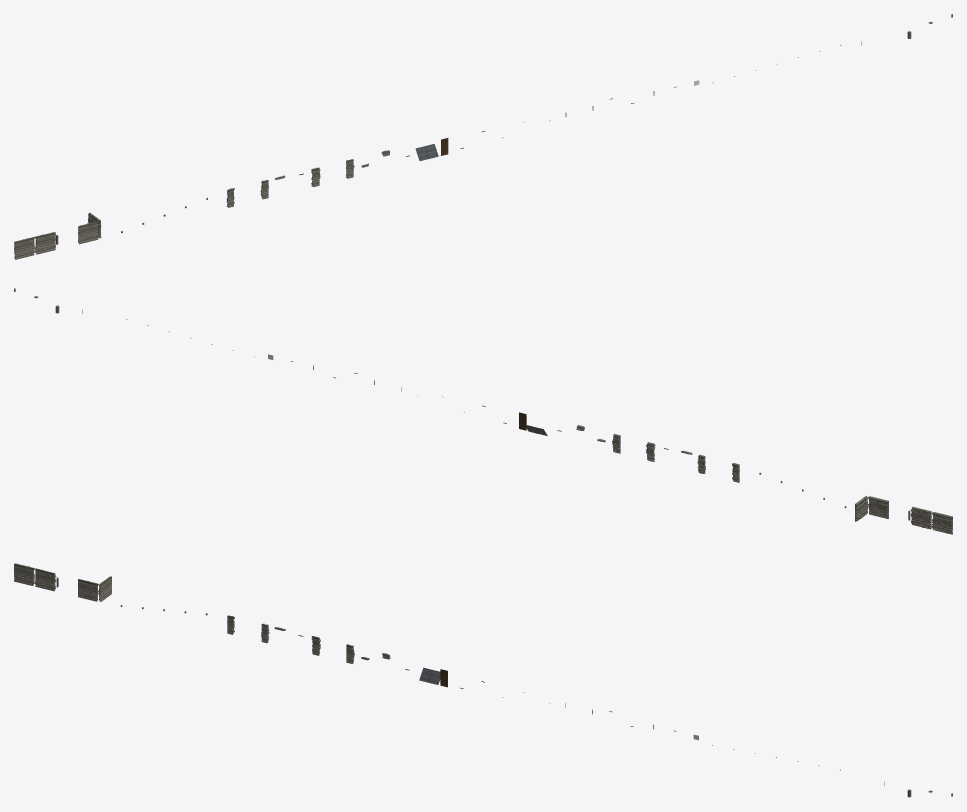
The model's file is tls_env_101_kit_cottage_v2.fbx.
3 renders of one model, top to bottom at view 1: azimuth 30°, elevation 25°; view 2: azimuth 150°, elevation 25°; view 3: azimuth 330°, elevation 25°, orthographic.
Size of the model in its own units: 11895 by 224 by 285.
6 materials, 4 textured.
